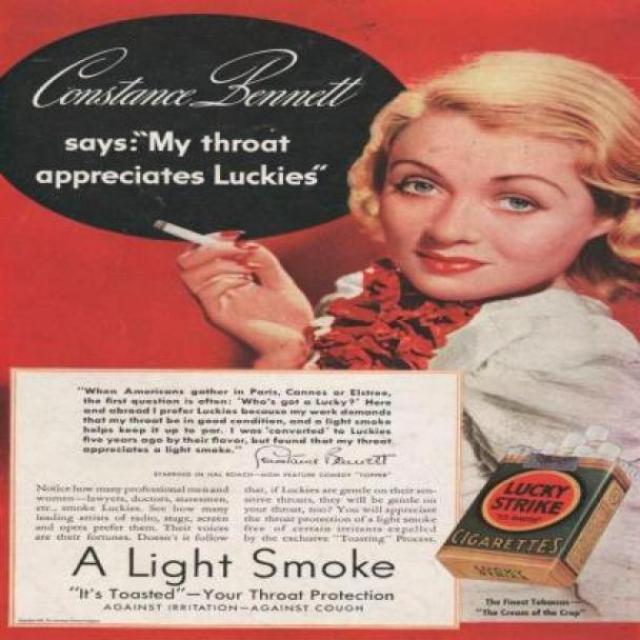rokok: (152, 213, 246, 263)
